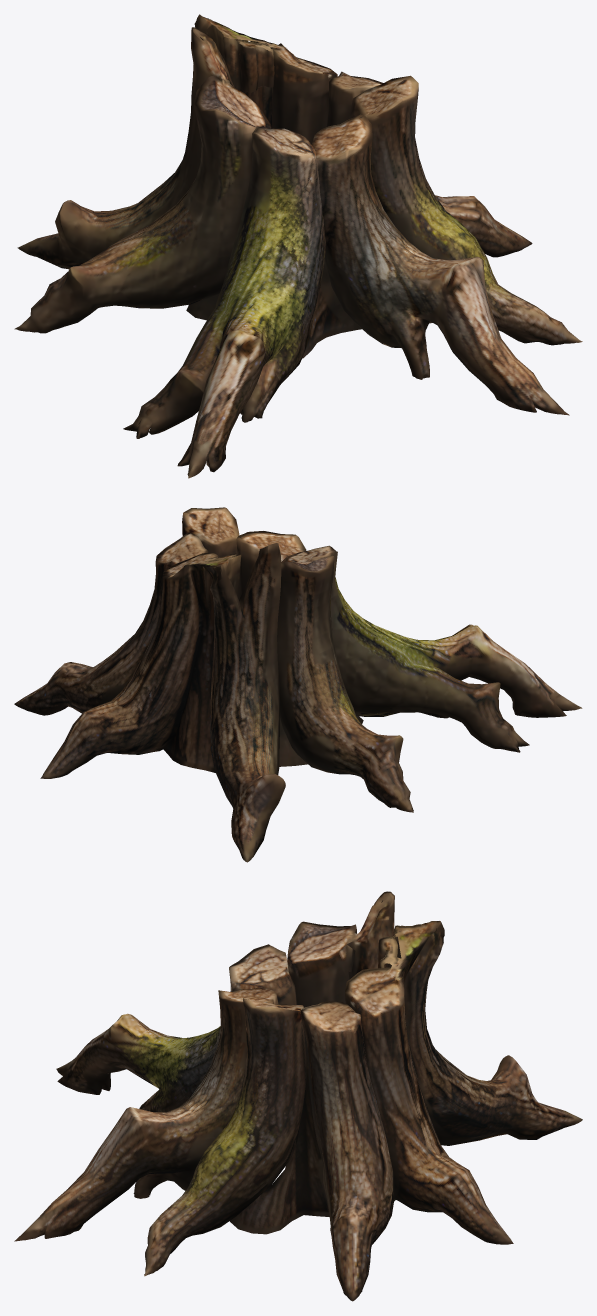
Rendered from act1_kit_v1_root_stump.glb.
3 renders of one model, top to bottom at view 1: azimuth 30°, elevation 25°; view 2: azimuth 150°, elevation 25°; view 3: azimuth 270°, elevation 25°, orthographic. The views are drawn at different scales.
Visible parts, largest first — view 1: act1_kit_v1_root_stump; view 2: act1_kit_v1_root_stump; view 3: act1_kit_v1_root_stump.
Part boxes in pixels (<box>): act1_kit_v1_root_stump: <box>14,14,582,478</box>; act1_kit_v1_root_stump: <box>14,507,582,862</box>; act1_kit_v1_root_stump: <box>14,891,582,1301</box>.
Size of the model in its own units: 0.9587 by 0.5191 by 1.
1 material, 1 textured.
